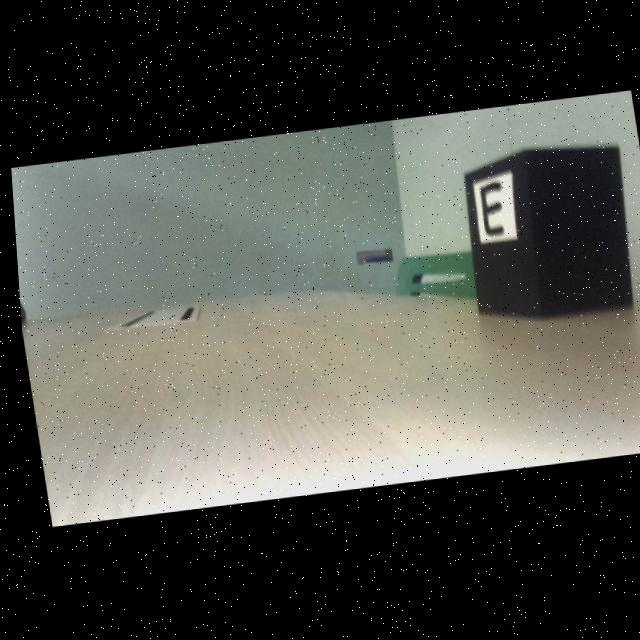E: (477, 185, 503, 240)
